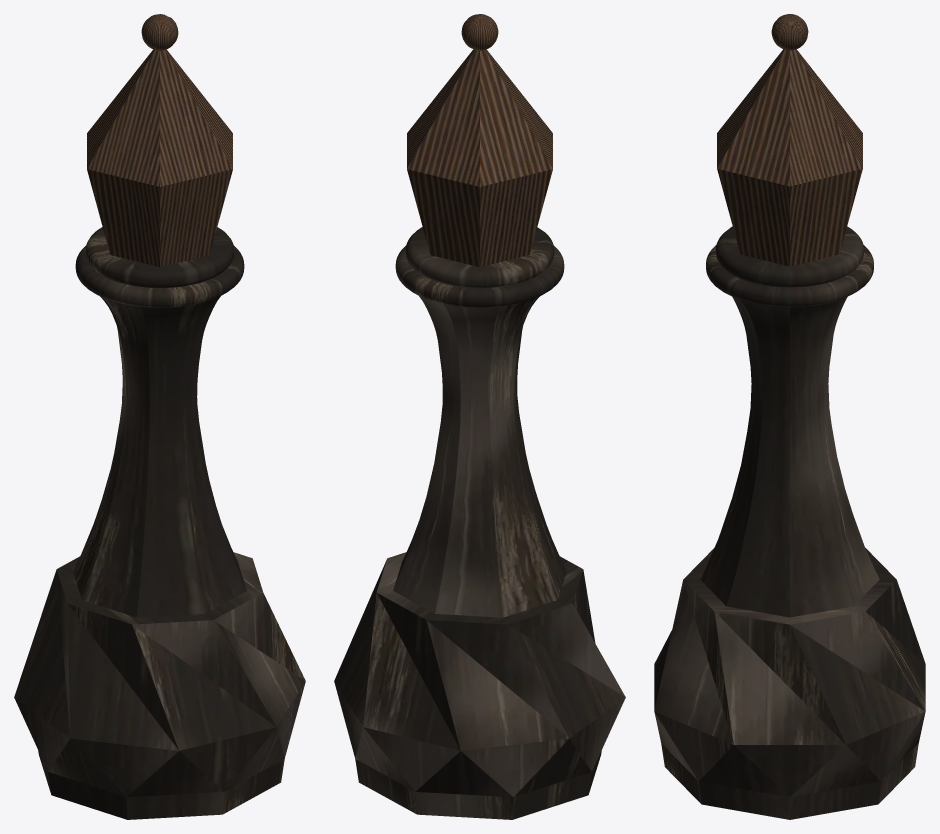
File: lithoxyl_queen_black.glb
3 renders of one model, left to right at view 1: azimuth 30°, elevation 25°; view 2: azimuth 150°, elevation 25°; view 3: azimuth 270°, elevation 25°, orthographic.
Parts seen in each view (by area): view 1: Lithoxyl_Queen_Onyx; view 2: Lithoxyl_Queen_Onyx; view 3: Lithoxyl_Queen_Onyx.
Boxes of the visible parts, bbox=[...] form: Lithoxyl_Queen_Onyx: bbox=[14, 14, 305, 819]; Lithoxyl_Queen_Onyx: bbox=[334, 14, 625, 819]; Lithoxyl_Queen_Onyx: bbox=[654, 14, 925, 819].
Size of the model in its own units: 0.0288 by 0.088 by 0.0288.
2 materials, 2 textured.
